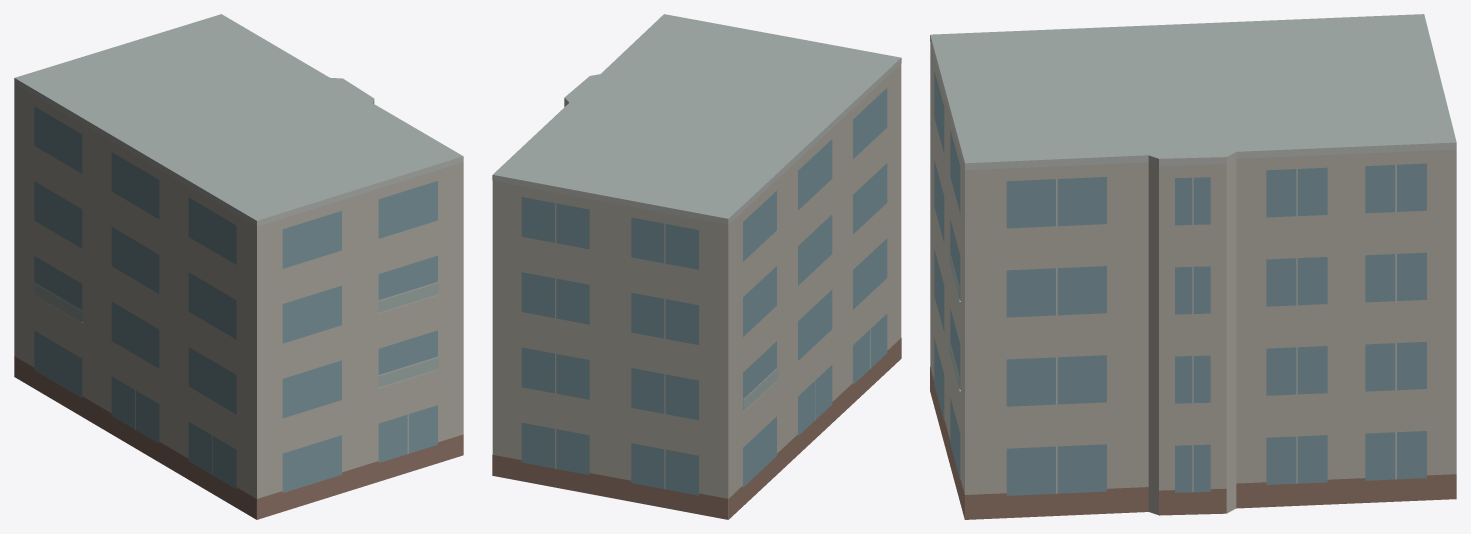
Rendered from survey-upis-33014327.glb.
3 views of the same model, side by side, from view 1: azimuth 30°, elevation 25°; view 2: azimuth 150°, elevation 25°; view 3: azimuth 270°, elevation 25° (orthographic). The views are drawn at different scales.
Parts seen in each view (by area): view 1: survey-upis-33014327.tmp; view 2: survey-upis-33014327.tmp; view 3: survey-upis-33014327.tmp.
Part boxes in pixels (left/top/right/bottom): survey-upis-33014327.tmp: left=14, top=14, right=463, bottom=519; survey-upis-33014327.tmp: left=492, top=14, right=901, bottom=519; survey-upis-33014327.tmp: left=930, top=14, right=1456, bottom=519.
Size of the model in its own units: 11.14 by 12.4 by 16.61.
